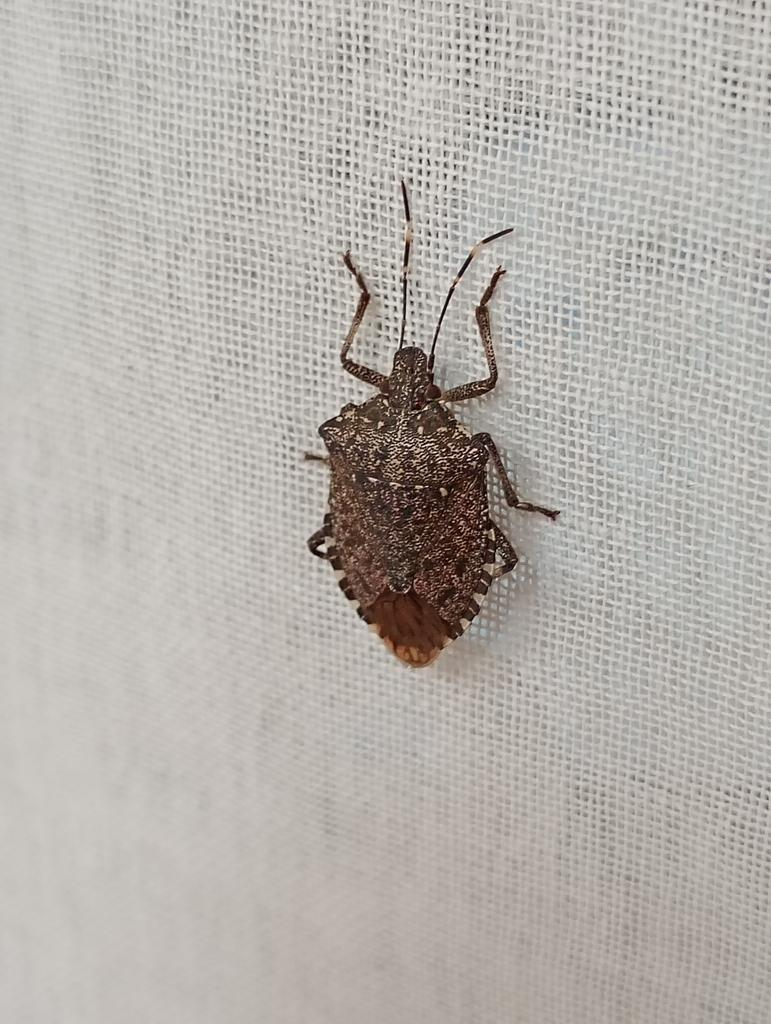stink_bugs: (225, 147, 625, 746)
